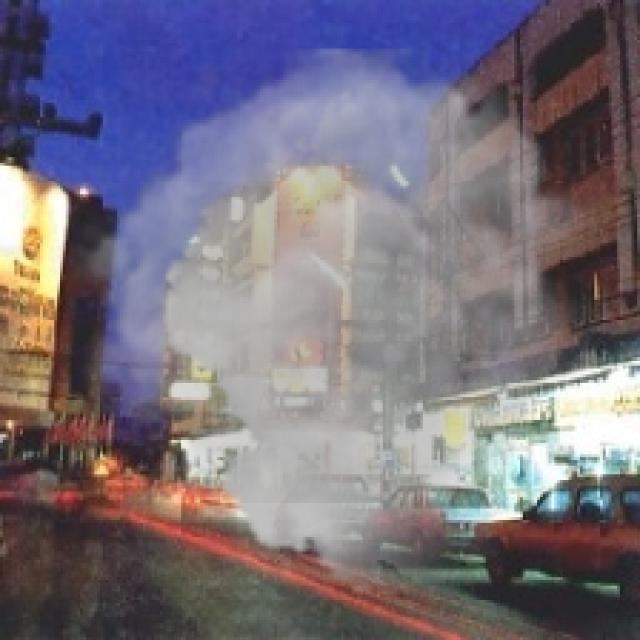Smoke: (63, 48, 606, 594)
